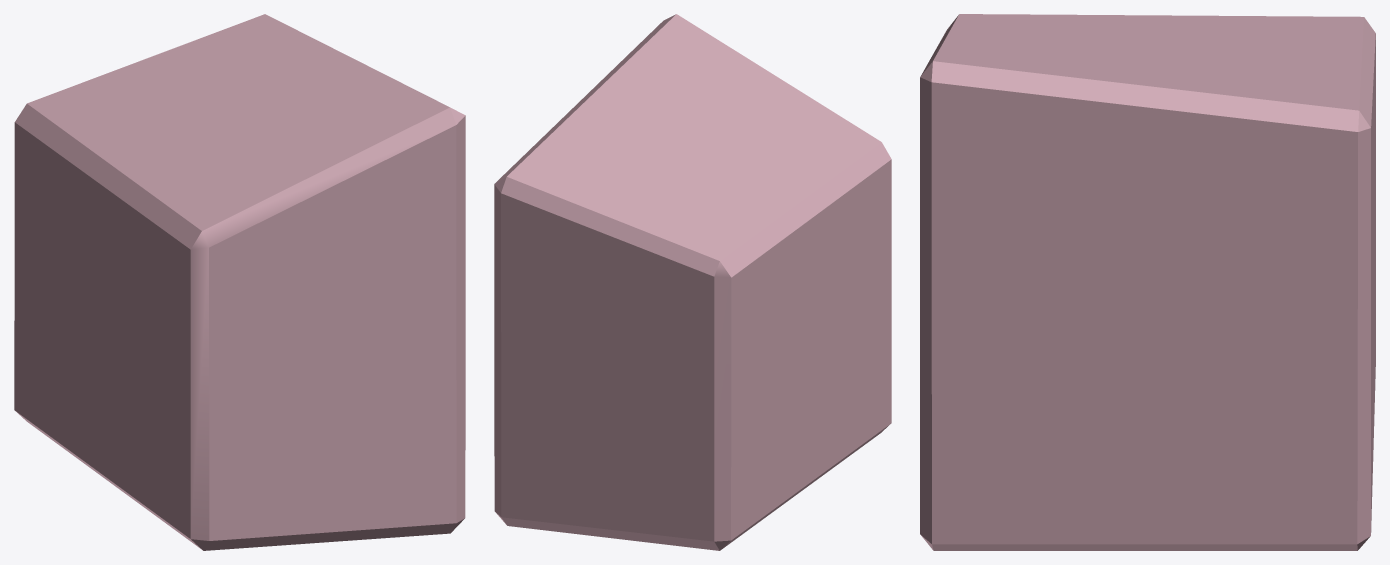
File: Bathroom_Box01.fbx
The picture shows the model from 3 angles, left to right: view 1: azimuth 30°, elevation 25°; view 2: azimuth 150°, elevation 25°; view 3: azimuth 270°, elevation 25°; orthographic projection. The views are drawn at different scales.
Visible parts, largest first — view 1: pCube26; view 2: pCube26; view 3: pCube26.
Part boxes in pixels (left/top/right/bottom): pCube26: left=14, top=14, right=465, bottom=550; pCube26: left=494, top=14, right=891, bottom=550; pCube26: left=920, top=14, right=1375, bottom=550.
Bounding box in the file's own units: 1.49 × 2.31 × 1.95.
